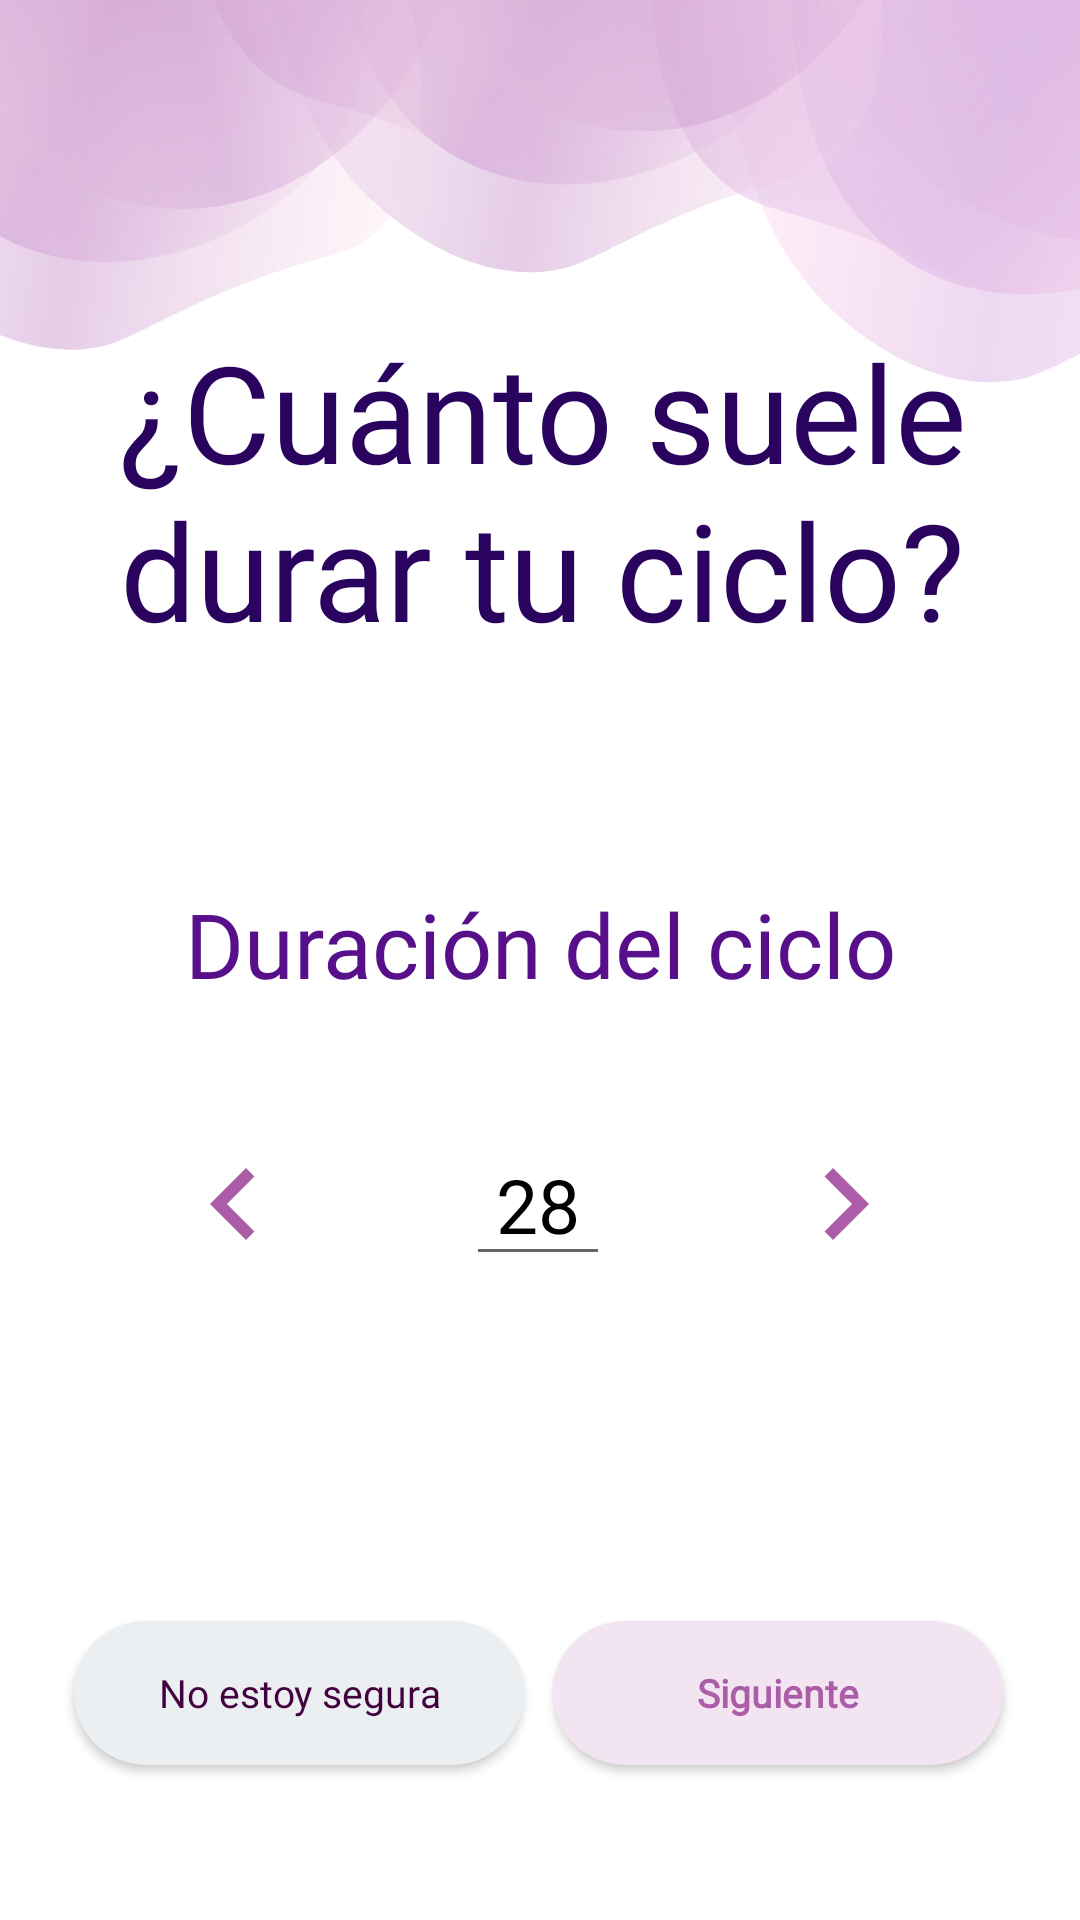

Screen size 1080 × 1920. Icon name, then its box in pixels as (x1, y1, x2, y2):
chevron left: (210, 1168, 255, 1240)
chevron right: (824, 1168, 869, 1240)
